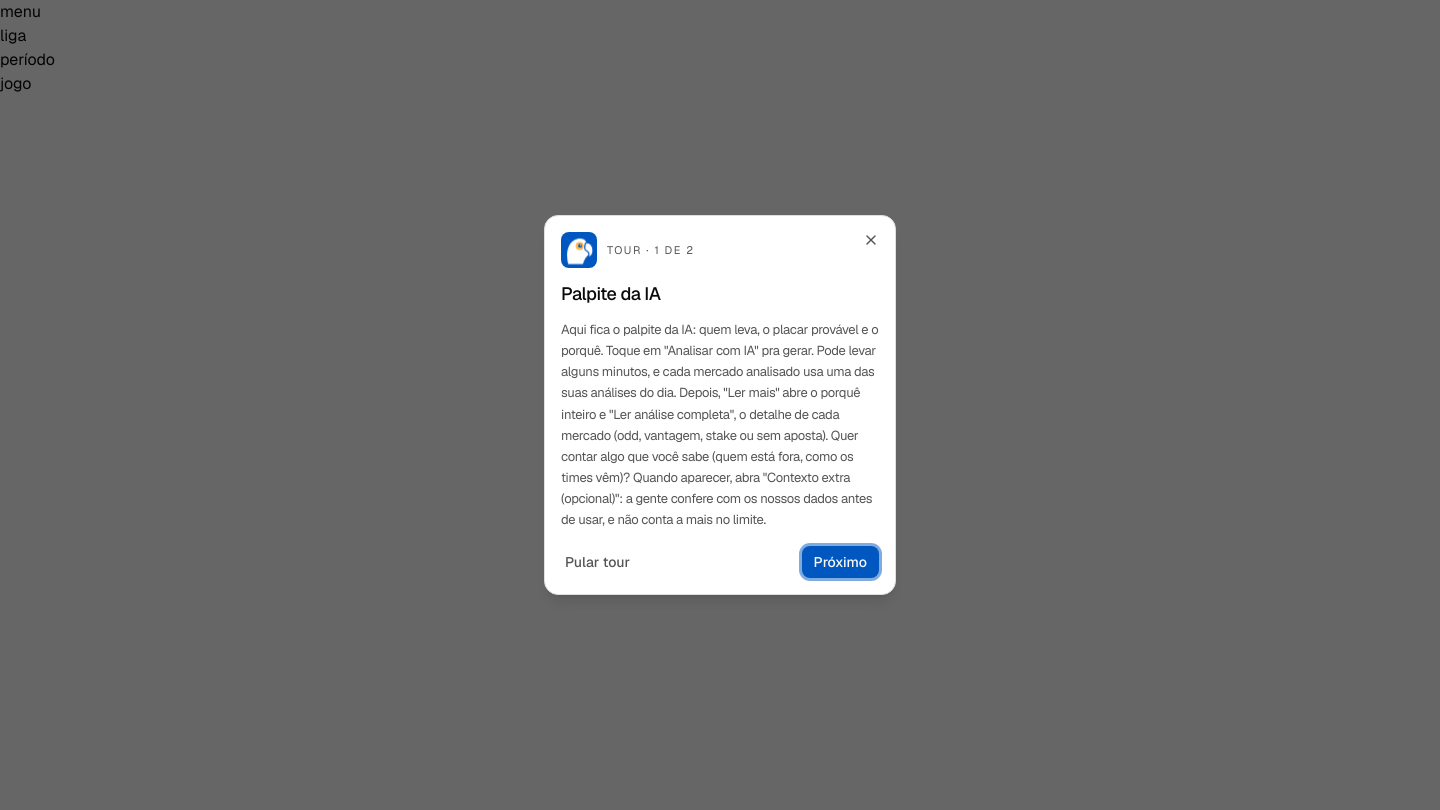
Test case: GuidedTour › a página do jogo abre com a lista vista e termina gravando done
Expected: the dialog shows "Palpite da IA", x1=561 y1=282 x2=661 y2=305
Click the button "Próximo" at (840, 562), box x1=802 y1=546 x2=879 y2=578
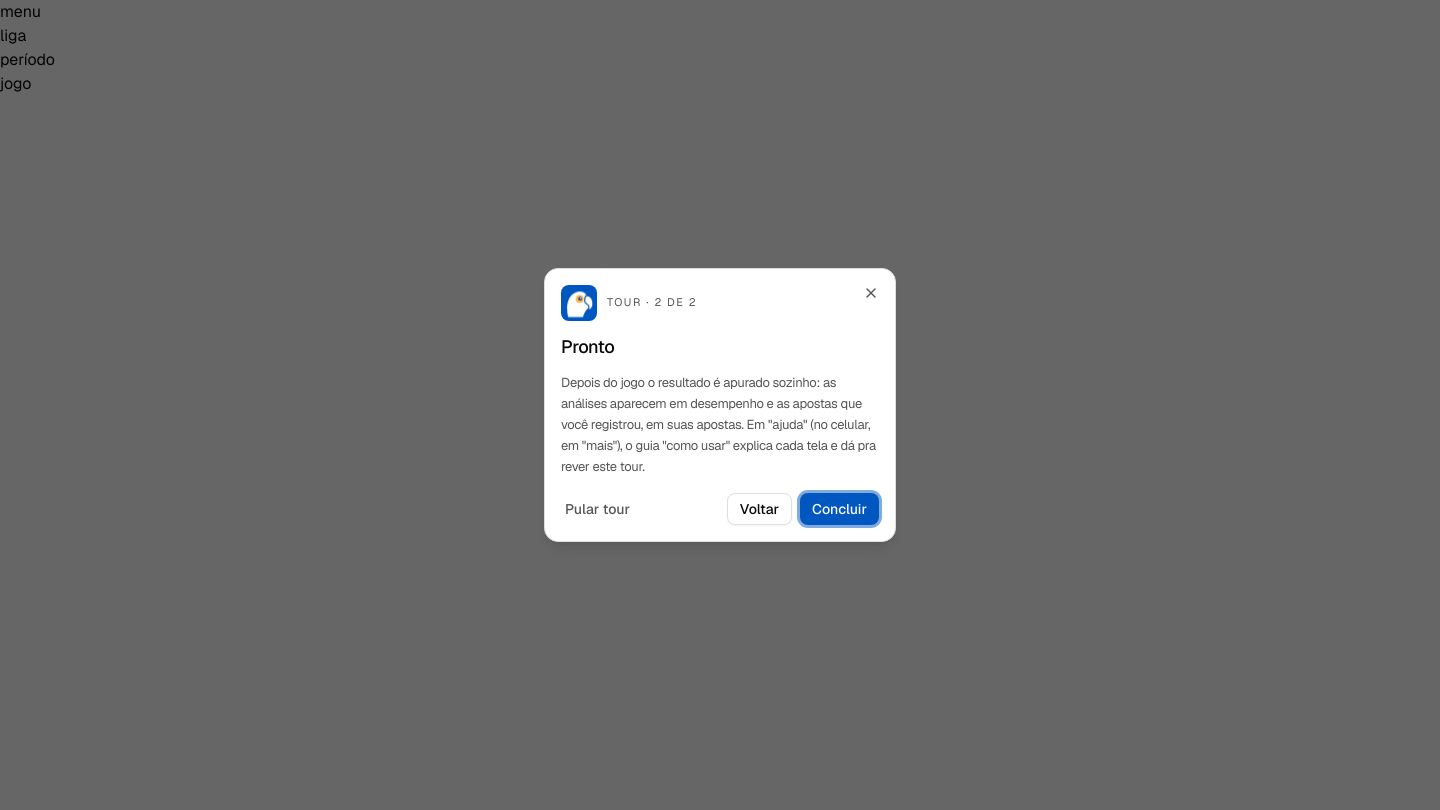
Expected: the dialog shows "Pronto", x1=561 y1=334 x2=614 y2=358
